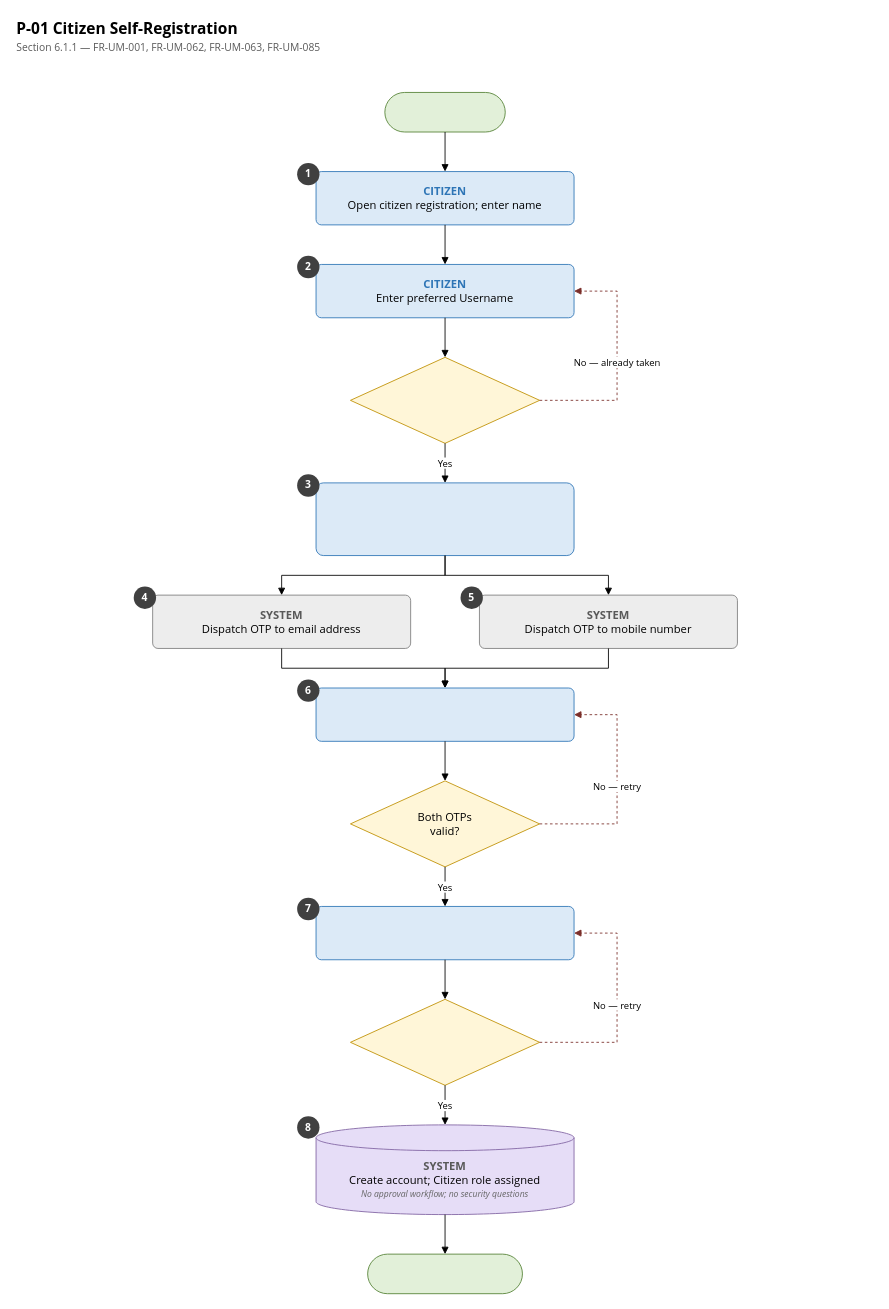
Image size: 889x1309. Some labels were removed from this diagram. The centre of each missing label's shape, as x and y in pixels:
ACCOUNT ACTIVE: the point at 444,1273
CITIZEN Complete mandatory Aadhaar e-KYC: the point at 444,933
CITIZEN Enter both OTPs (email + mobile): the point at 444,714
CITIZEN Enter email address and mobile number No uniqueness required on either: the point at 444,519
e-KYC successful?: the point at 445,1041
START: the point at 444,112
Username unique in User Master?: the point at 445,399
